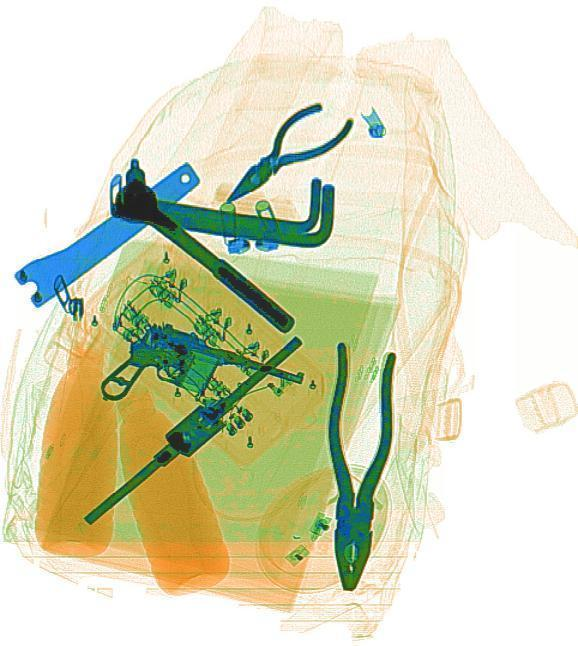Gun: (95, 307, 305, 460)
Pliers: (314, 339, 399, 593), (204, 84, 359, 222)
